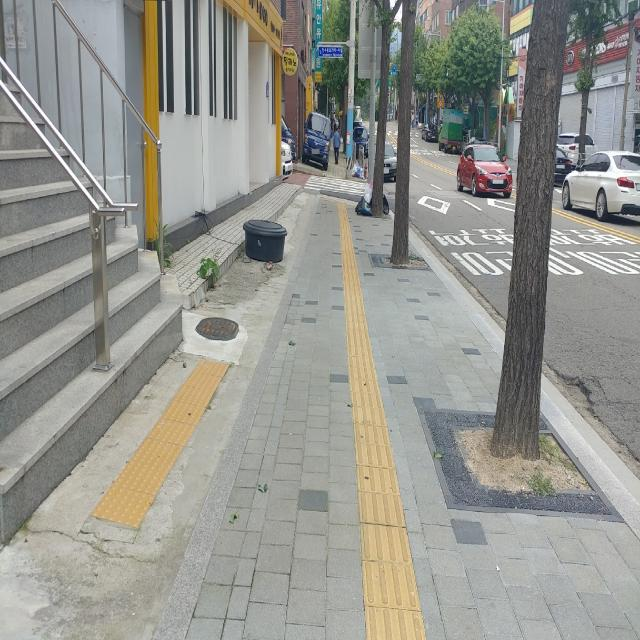횡단보도: (304, 174, 365, 197)
